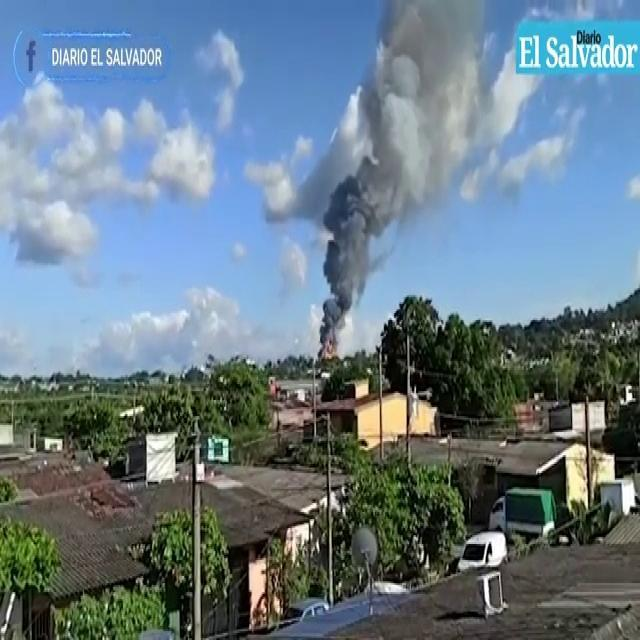Smoke: (302, 7, 480, 367)
